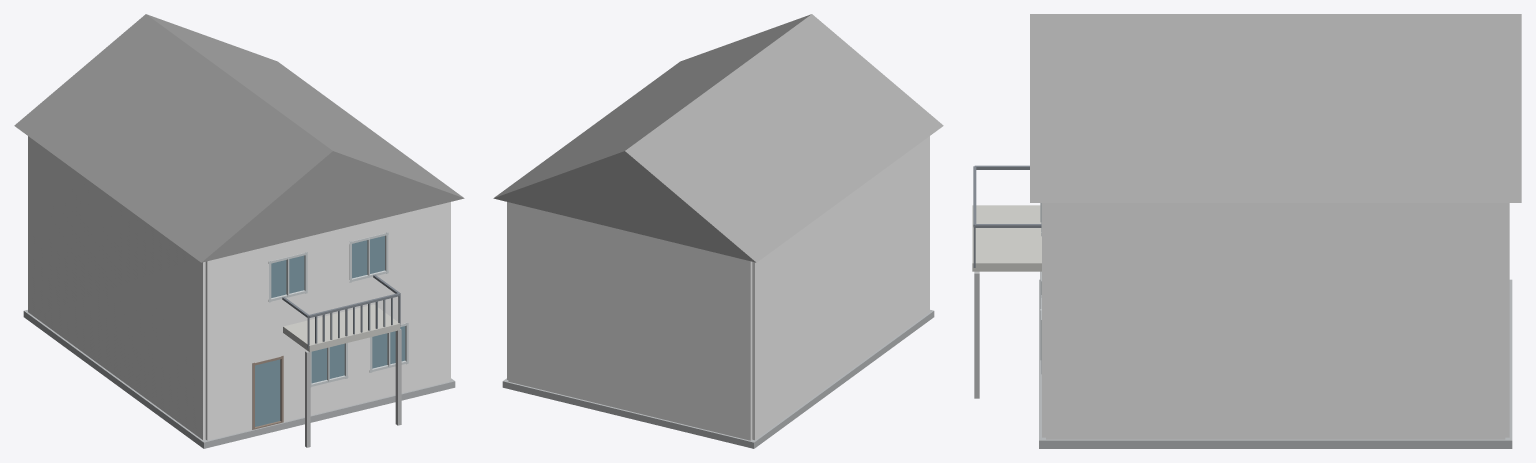
The model's file is japanese-house.glb.
The picture shows the model from 3 angles, left to right: view 1: azimuth 30°, elevation 25°; view 2: azimuth 150°, elevation 25°; view 3: azimuth 270°, elevation 25°; orthographic projection. The views are drawn at different scales.
Parts seen in each view (by area): view 1: roof, side wall, foundation, front wall.004, balcony floor, front wall.060, front wall.005, front wall.002, front wall.061, door glass, front wall.058, front wall.001 (+26 smaller); view 2: roof, back wall, side wall, foundation; view 3: side wall.001, roof, foundation, balcony floor, back wall, support.001.
Boxes of the visible parts, x1=… form: roof: x1=14, y1=14, x2=464, y2=262; side wall: x1=28, y1=136, x2=205, y2=440; foundation: x1=23, y1=310, x2=455, y2=448; front wall.004: x1=205, y1=304, x2=253, y2=372; balcony floor: x1=283, y1=304, x2=400, y2=351; front wall.060: x1=407, y1=257, x2=449, y2=323; front wall.005: x1=205, y1=266, x2=253, y2=315; front wall.002: x1=205, y1=365, x2=252, y2=410; front wall.061: x1=407, y1=218, x2=449, y2=266; door glass: x1=255, y1=359, x2=280, y2=426; front wall.058: x1=408, y1=316, x2=449, y2=361; front wall.001: x1=205, y1=400, x2=252, y2=440; roof: x1=493, y1=14, x2=943, y2=262; back wall: x1=508, y1=202, x2=752, y2=440; side wall: x1=752, y1=136, x2=929, y2=440; foundation: x1=502, y1=310, x2=934, y2=448; side wall.001: x1=1046, y1=203, x2=1505, y2=439; roof: x1=1030, y1=14, x2=1521, y2=202; foundation: x1=1039, y1=279, x2=1512, y2=448; balcony floor: x1=972, y1=205, x2=1041, y2=271; back wall: x1=1505, y1=203, x2=1509, y2=437; support.001: x1=974, y1=271, x2=979, y2=398.
Bounding box in the file's own units: 8.7 × 8.51 × 11.95.
